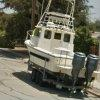Boat: (23, 9, 88, 89)
